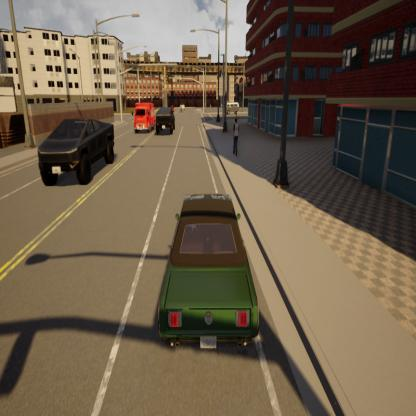Cars: (152, 188, 262, 364), (35, 113, 119, 194), (132, 99, 158, 134), (154, 107, 177, 134), (223, 100, 241, 115), (179, 102, 186, 113)
Pedestrian: (230, 116, 242, 160)
